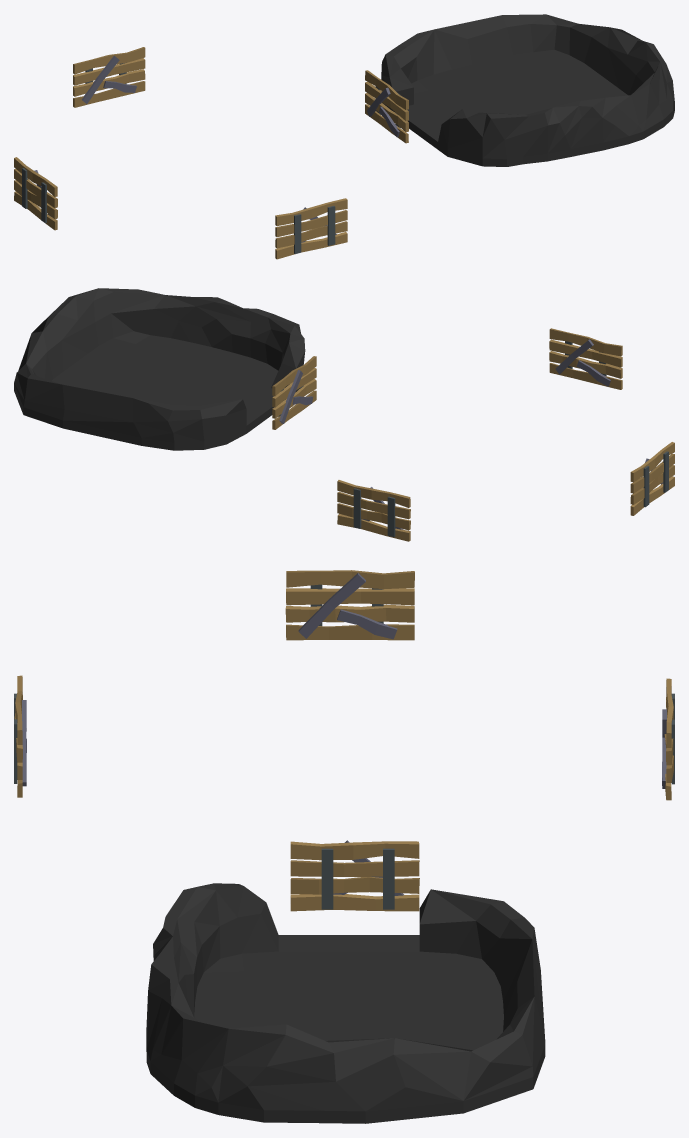
The model's file is Doors.fbx.
3 views of the same model, one above another, from view 1: azimuth 30°, elevation 25°; view 2: azimuth 150°, elevation 25°; view 3: azimuth 270°, elevation 25° (orthographic). The views are drawn at different scales.
Parts seen in each view (by area): view 1: Start, Door, Door.002, Door.003, Door.001; view 2: Start, Door.002, Door, Door.003, Door.001; view 3: Start, Door.003, Door.001, Door.002, Door.
Boxes of the visible parts, <box> form: Start: <box>381,14,674,166</box>; Door: <box>73,47,145,107</box>; Door.002: <box>275,198,347,259</box>; Door.003: <box>365,70,408,143</box>; Door.001: <box>14,157,57,230</box>; Start: <box>14,288,305,450</box>; Door.002: <box>549,328,622,389</box>; Door: <box>337,480,410,541</box>; Door.003: <box>272,356,316,429</box>; Door.001: <box>630,442,674,515</box>; Start: <box>146,883,545,1123</box>; Door.003: <box>290,840,419,911</box>; Door.001: <box>285,570,414,640</box>; Door.002: <box>14,675,26,797</box>; Door: <box>662,678,674,800</box>.
Bounding box in the file's own units: 10784 × 909 × 6401.
